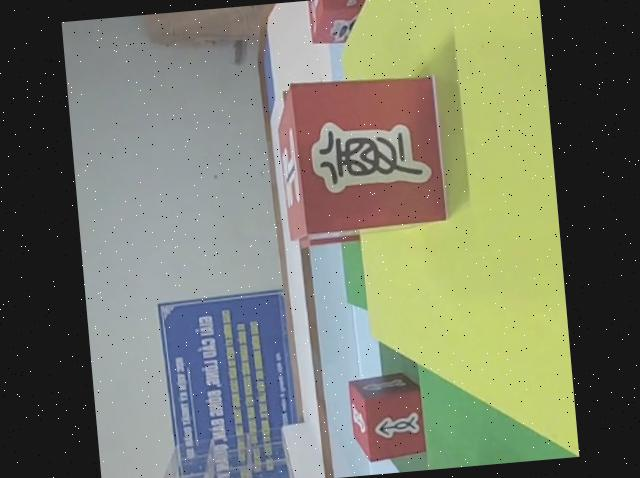R1: (306, 0, 382, 45)
R2 Fake: (272, 69, 451, 238)
R2 Real: (345, 373, 428, 462)
